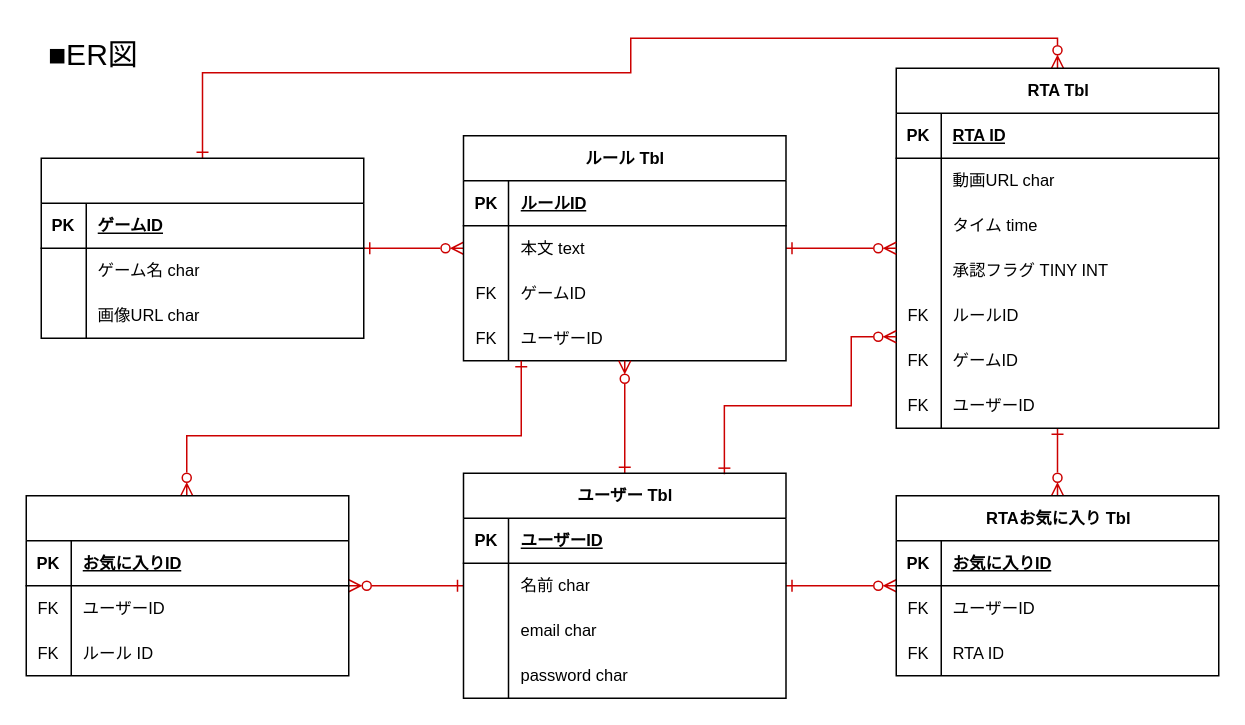
Image size: 1245x725. Some labels were removed from this diagram. Each missing label, with the box of its shape:
ゲーム Mst: (40, 157, 364, 338)
ルールお気に入り Tbl: (25, 494, 349, 676)
